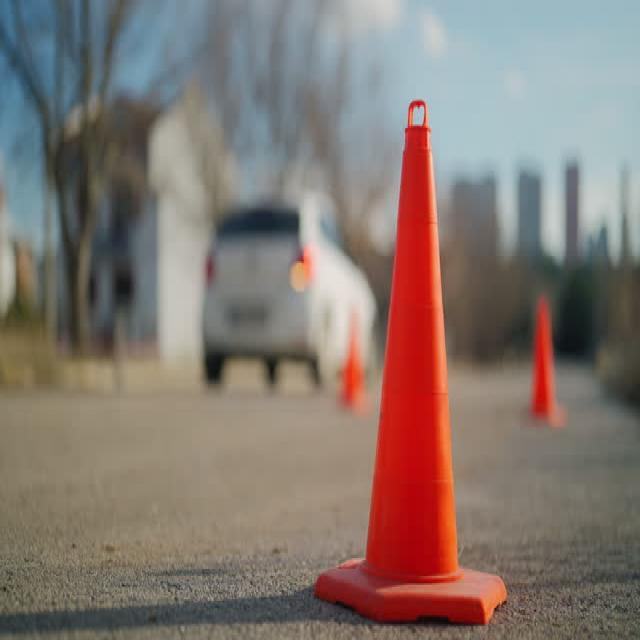Traffic Cone: (298, 39, 527, 640)
